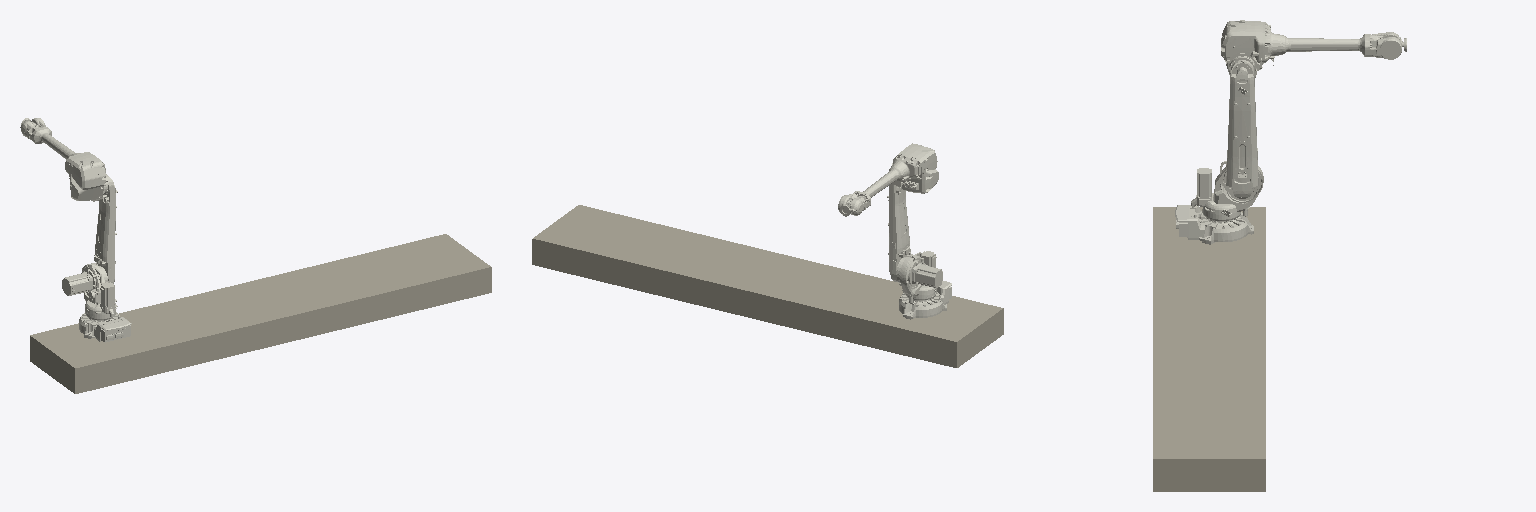
URDF robot description (abb_on_axis):
<?xml version="1.0" ?>
<!-- =================================================================================== -->
<!-- |    This document was autogenerated by xacro from abb_on_axis.xacro              | -->
<!-- |    EDITING THIS FILE BY HAND IS NOT RECOMMENDED                                 | -->
<!-- =================================================================================== -->
<robot name="abb_on_axis">
  <!-- Conversion were obtained from http://www.e-paint.co.uk/Lab_values.asp
       unless otherwise stated. -->
  <!-- Conversion were obtained from http://www.e-paint.co.uk/Lab_values.asp
       unless otherwise stated. -->
  <!-- LINEAR AXIS -->
  <!-- linear axis link list -->
  <link name="axis">
    <inertial>
      <origin xyz="0.0 0.0 0.0"/>
      <mass value="120"/>
      <inertia ixx="-4.98000" ixy="-0.00000" ixz="2.70000" iyy="-5.95200" iyz="-0.00000" izz="0.82800"/>
    </inertial>
    <visual>
      <geometry>
        <mesh filename="package://abb_on_axis/meshes/visual/axis.stl"/>
      </geometry>
      <material name="">
        <color rgba="0.7058823 0.6901961 0.6313725 1"/>
      </material>
    </visual>
    <collision>
      <geometry>
        <mesh filename="package://abb_on_axis/meshes/collision/axis.stl"/>
      </geometry>
      <material name="">
        <color rgba="0.7058823 0.6901961 0.6313725 1"/>
      </material>
    </collision>
  </link>
  <link name="cart">
    <inertial>
      <origin xyz="0.0 0.0 0.0"/>
      <mass value="120.00000"/>
      <inertia ixx="-4.98000" ixy="-0.00000" ixz="2.70000" iyy="-5.95200" iyz="-0.00000" izz="0.82800"/>
    </inertial>
    <visual>
      <geometry>
        <mesh filename="package://abb_on_axis/meshes/visual/cart.stl"/>
      </geometry>
      <material name="">
        <color rgba="0.8392157 0.8352941 0.7921569 1"/>
      </material>
    </visual>
    <collision>
      <geometry>
        <mesh filename="package://abb_on_axis/meshes/collision/cart.stl"/>
      </geometry>
      <material name="">
        <color rgba="0.8392157 0.8352941 0.7921569 1"/>
      </material>
    </collision>
  </link>
  <!-- linear axis joint list -->
  <joint name="cart_joint" type="prismatic">
    <parent link="axis"/>
    <child link="cart"/>
    <origin rpy="0 0 0 " xyz="0 0 0"/>
    <axis xyz="1 0 0"/>
    <limit effort="100000" lower="0" upper="3.9" velocity="2.618"/>
    <dynamics damping="0.2" friction="0"/>
  </joint>
  <joint name="abb_joint" type="fixed">
    <parent link="cart"/>
    <child link="base_link"/>
    <origin rpy="0 0 1.5707963267948966 " xyz="0 0 0 "/>
    <dynamics damping="0.2" friction="0"/>
  </joint>
  <!-- ARE WE MISSING A WORLD TO AXIS fixed joint? for only the abb_on_axis group?-->
  <!-- GRIPPER -->
  <!-- gripper link list -->
  <link name="gripper">
    <visual>
      <geometry>
        <mesh filename="package://abb_irb4600_40_255/meshes/visual/gripper.stl"/>
      </geometry>
      <material name="">
        <color rgba="1.0 0.8 0.796078431372549 1"/>
      </material>
    </visual>
    <collision>
      <geometry>
        <mesh filename="package://abb_irb4600_40_255/meshes/collision/gripper.stl"/>
      </geometry>
      <material name="">
        <color rgba="1.0 0.8 0.796078431372549 1"/>
      </material>
    </collision>
  </link>
  <link name="tcp"/>
  <!-- gripper joint list -->
  <joint name="gripper_joint" type="fixed">
    <parent link="tool0"/>
    <child link="gripper"/>
    <origin rpy="0 0 0" xyz="0 0 0"/>
  </joint>
  <joint name="tcp_joint" type="fixed">
    <parent link="gripper"/>
    <child link="tcp"/>
    <origin rpy="0 0 0" xyz="0 0 0.352"/>
  </joint>
  <!-- IRB4600 -->
  <!-- irb4600 link list -->
  <link name="base_link">
    <inertial>
      <origin xyz="0.0 0.0 0.0"/>
      <mass value="120.00000"/>
      <inertia ixx="-4.98000" ixy="-0.00000" ixz="2.70000" iyy="-5.95200" iyz="-0.00000" izz="0.82800"/>
    </inertial>
    <visual>
      <geometry>
        <mesh filename="package://abb_irb4600_40_255/meshes/visual/base_link.stl"/>
      </geometry>
      <material name="">
        <color rgba="0.8392157 0.8352941 0.7921569 1"/>
      </material>
    </visual>
    <collision>
      <geometry>
        <mesh filename="package://abb_irb4600_40_255/meshes/collision/base_link.stl"/>
      </geometry>
      <material name="">
        <color rgba="0.8392157 0.8352941 0.7921569 1"/>
      </material>
    </collision>
  </link>
  <link name="link_1">
    <inertial>
      <origin xyz="0.18000 0.00000 0.50000"/>
      <mass value="120.00000"/>
      <inertia ixx="-4.98000" ixy="-0.00000" ixz="2.70000" iyy="-5.95200" iyz="-0.00000" izz="0.82800"/>
    </inertial>
    <visual>
      <geometry>
        <mesh filename="package://abb_irb4600_40_255/meshes/visual/link_1.stl"/>
      </geometry>
      <material name="">
        <color rgba="0.8392157 0.8352941 0.7921569 1"/>
      </material>
    </visual>
    <collision>
      <geometry>
        <mesh filename="package://abb_irb4600_40_255/meshes/collision/link_1.stl"/>
      </geometry>
      <material name="">
        <color rgba="0.8392157 0.8352941 0.7921569 1"/>
      </material>
    </collision>
  </link>
  <link name="link_2">
    <inertial>
      <origin xyz="0.94000 0.08000 -0.34000"/>
      <mass value="120.00000"/>
      <inertia ixx="-2.96000" ixy="2.25600" ixz="-9.58800" iyy="-18.72601" iyz="-0.81600" izz="-14.95000"/>
    </inertial>
    <visual>
      <geometry>
        <mesh filename="package://abb_irb4600_40_255/meshes/visual/link_2.stl"/>
      </geometry>
      <material name="">
        <color rgba="0.8392157 0.8352941 0.7921569 1"/>
      </material>
    </visual>
    <collision>
      <geometry>
        <mesh filename="package://abb_irb4600_40_255/meshes/collision/link_2.stl"/>
      </geometry>
      <material name="">
        <color rgba="0.8392157 0.8352941 0.7921569 1"/>
      </material>
    </collision>
  </link>
  <link name="link_3">
    <inertial>
      <origin xyz="0.07000 -0.26600 0.08800"/>
      <mass value="120.00000"/>
      <inertia ixx="1.34500" ixy="-0.55860" ixz="0.18480" iyy="4.65068" iyz="-0.70224" izz="2.76032"/>
    </inertial>
    <visual>
      <geometry>
        <mesh filename="package://abb_irb4600_40_255/meshes/visual/link_3.stl"/>
      </geometry>
      <material name="">
        <color rgba="0.8392157 0.8352941 0.7921569 1"/>
      </material>
    </visual>
    <collision>
      <geometry>
        <mesh filename="package://abb_irb4600_40_255/meshes/collision/link_3.stl"/>
      </geometry>
      <material name="">
        <color rgba="0.8392157 0.8352941 0.7921569 1"/>
      </material>
    </collision>
  </link>
  <link name="link_4">
    <inertial>
      <origin xyz="0.00000 0.00000 1.00000"/>
      <mass value="40.00000"/>
      <inertia ixx="-8.00000" ixy="-0.00000" ixz="-0.00000" iyy="-8.00000" iyz="-0.00000" izz="0.48200"/>
    </inertial>
    <visual>
      <geometry>
        <mesh filename="package://abb_irb4600_40_255/meshes/visual/link_4.stl"/>
      </geometry>
      <material name="">
        <color rgba="0.8392157 0.8352941 0.7921569 1"/>
      </material>
    </visual>
    <collision>
      <geometry>
        <mesh filename="package://abb_irb4600_40_255/meshes/collision/link_4.stl"/>
      </geometry>
      <material name="">
        <color rgba="0.8392157 0.8352941 0.7921569 1"/>
      </material>
    </collision>
  </link>
  <link name="link_5">
    <inertial>
      <origin xyz="0.14000 0.00000 0.00000"/>
      <mass value="10.00000"/>
      <inertia ixx="0.04000" ixy="-0.00000" ixz="-0.00000" iyy="-0.00900" iyz="-0.00000" izz="-0.00400"/>
    </inertial>
    <visual>
      <geometry>
        <mesh filename="package://abb_irb4600_40_255/meshes/visual/link_5.stl"/>
      </geometry>
      <material name="">
        <color rgba="0.8392157 0.8352941 0.7921569 1"/>
      </material>
    </visual>
    <collision>
      <geometry>
        <mesh filename="package://abb_irb4600_40_255/meshes/collision/link_5.stl"/>
      </geometry>
      <material name="">
        <color rgba="0.8392157 0.8352941 0.7921569 1"/>
      </material>
    </collision>
  </link>
  <link name="link_6">
    <inertial>
      <origin xyz="0.08100 -0.09100 0.33200"/>
      <mass value="5.00000"/>
      <inertia ixx="-0.29652" ixy="-0.03686" ixz="0.09396" iyy="-0.28792" iyz="-0.10556" izz="-0.04621"/>
    </inertial>
    <visual>
      <geometry>
        <mesh filename="package://abb_irb4600_40_255/meshes/visual/link_6.stl"/>
      </geometry>
      <material name="">
        <color rgba="0.8392157 0.8352941 0.7921569 1"/>
      </material>
    </visual>
    <collision>
      <geometry>
        <mesh filename="package://abb_irb4600_40_255/meshes/collision/link_6.stl"/>
      </geometry>
      <material name="">
        <color rgba="0.8392157 0.8352941 0.7921569 1"/>
      </material>
    </collision>
  </link>
  <link name="tool0"/>
  <!-- irb4600 joint list -->
  <joint name="joint_1" type="revolute">
    <parent link="base_link"/>
    <child link="link_1"/>
    <origin rpy="0 0 0" xyz="0 0 0.495"/>
    <axis xyz="0 0 1"/>
    <limit effort="100000" lower="-3.141592653589793" upper="3.141592653589793" velocity="2.618"/>
    <dynamics damping="0.2" friction="0"/>
  </joint>
  <joint name="joint_2" type="revolute">
    <parent link="link_1"/>
    <child link="link_2"/>
    <origin rpy="0 0 0" xyz="0.175 0 0"/>
    <axis xyz="0 1 0"/>
    <limit effort="100000" lower="-1.3089969389957472" upper="2.6179938779914944" velocity="2.618"/>
    <dynamics damping="0.2" friction="0"/>
  </joint>
  <joint name="joint_3" type="revolute">
    <parent link="link_2"/>
    <child link="link_3"/>
    <origin rpy="0 0 0" xyz="0 0 1.095"/>
    <axis xyz="0 1 0"/>
    <limit effort="100000" lower="-3.141592653589793" upper="1.3089969389957472" velocity="2.618"/>
    <dynamics damping="0.2" friction="0"/>
  </joint>
  <joint name="joint_4" type="revolute">
    <parent link="link_3"/>
    <child link="link_4"/>
    <origin rpy="0 0 0" xyz="0 0 0.175"/>
    <axis xyz="1 0 0"/>
    <limit effort="10000" lower="-6.981317007977318" upper="6.981317007977318" velocity="6.2832"/>
    <dynamics damping="0.2" friction="0"/>
  </joint>
  <joint name="joint_5" type="revolute">
    <parent link="link_4"/>
    <child link="link_5"/>
    <origin rpy="0 0 0" xyz="1.270 0 0"/>
    <axis xyz="0 1 0"/>
    <limit effort="100000" lower="-2.181661564992912" upper="2.0943951023931953" velocity="6.2832"/>
    <dynamics damping="0.2" friction="0"/>
  </joint>
  <joint name="joint_6" type="revolute">
    <parent link="link_5"/>
    <child link="link_6"/>
    <origin rpy="0 0 0" xyz="0.135 0 0"/>
    <axis xyz="1 0 0"/>
    <limit effort="100000" lower="-6.981317007977318" upper="6.981317007977318" velocity="7.854"/>
    <dynamics damping="0.2" friction="0"/>
  </joint>
  <joint name="joint_6-tool0" type="fixed">
    <parent link="link_6"/>
    <child link="tool0"/>
    <origin rpy="0 1.5707963267948966 0" xyz="0 0 0"/>
  </joint>
  <!-- -->
  <!-- IRB4600 base_link to ABB World Coordinates transform -->
  <link name="base"/>
  <joint name="base_link-base" type="fixed">
    <parent link="base_link"/>
    <child link="base"/>
    <origin rpy="0 0 0" xyz="0 0 0"/>
  </joint>
</robot>

--- What the picture shows (computed from the rendered views, not written in the file) ---
Views: 3 orthographic renders of the robot side by side, from view 1: azimuth 30°, elevation 25°; view 2: azimuth 150°, elevation 25°; view 3: azimuth 270°, elevation 25°.
Robot: abb_on_axis — 13 links, 12 joints (6 revolute, 1 prismatic, 5 fixed); root link axis; default pose: all joints at 0.
Links seen in each view (by area): view 1: axis, link_1, link_3, link_2, base_link, link_4; view 2: axis, link_1, link_3, link_2, base_link, link_4; view 3: axis, link_2, link_3, link_4, link_1, base_link.
Boxes of the visible links, box(x1,y1,x2,y2) form: axis: box(30, 234, 491, 393); link_1: box(62, 262, 117, 321); link_3: box(65, 152, 107, 201); link_2: box(94, 174, 117, 283); base_link: box(79, 312, 131, 342); link_4: box(20, 118, 75, 159); axis: box(532, 205, 1003, 367); link_1: box(897, 251, 942, 303); link_3: box(891, 143, 938, 193); link_2: box(887, 183, 910, 282); base_link: box(899, 281, 951, 319); link_4: box(838, 166, 903, 215); axis: box(1153, 207, 1265, 491); link_2: box(1226, 60, 1258, 202); link_3: box(1221, 20, 1280, 77); link_4: box(1281, 32, 1402, 59); link_1: box(1191, 161, 1263, 222); base_link: box(1175, 205, 1253, 244).
Bounding box of the posed robot: 5.09 × 2.17 × 2.3 m (x, y, z).
8 mesh visuals loaded from 10 distinct referenced files (8 binary STL); not drawn: 2 (reference not matched to a file when rendering).